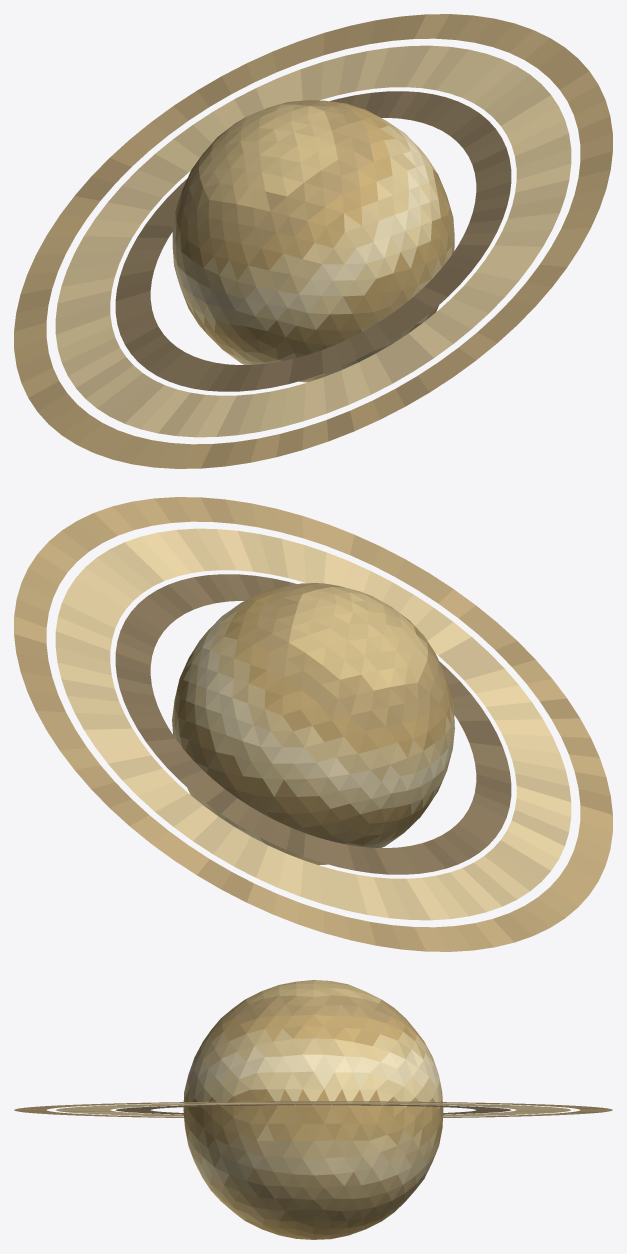
File: saturn.glb
3 renders of one model, top to bottom at view 1: azimuth 30°, elevation 25°; view 2: azimuth 150°, elevation 25°; view 3: azimuth 270°, elevation 25°, orthographic. The views are drawn at different scales.
Parts seen in each view (by area): view 1: saturn_rings, saturn_body; view 2: saturn_rings, saturn_body; view 3: saturn_body, saturn_rings.
Part boxes in pixels (bbox=[...]): saturn_rings: bbox=[14, 14, 612, 468]; saturn_body: bbox=[172, 100, 454, 382]; saturn_rings: bbox=[14, 497, 612, 951]; saturn_body: bbox=[172, 583, 454, 865]; saturn_body: bbox=[183, 980, 443, 1239]; saturn_rings: bbox=[14, 1101, 612, 1117].
Size of the model in its own units: 3.62 by 1.82 by 4.05.
